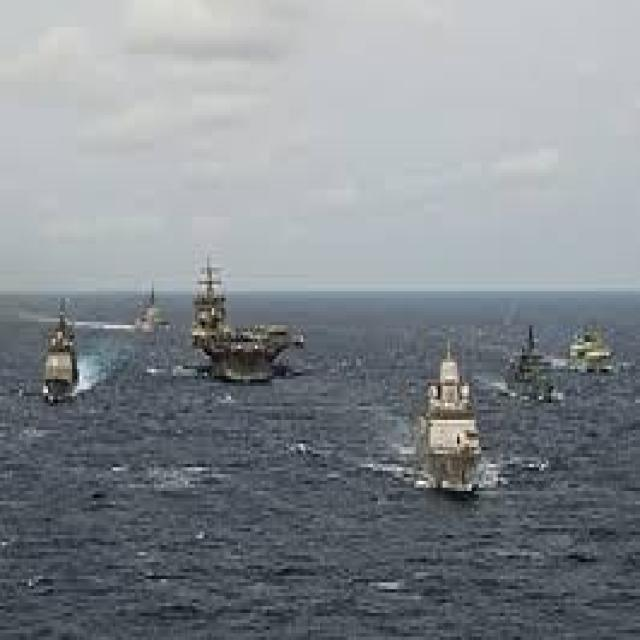navalvessels: (402, 326, 479, 494), (181, 262, 300, 370), (501, 317, 548, 408), (35, 305, 76, 404), (122, 271, 170, 341), (564, 316, 616, 375)
